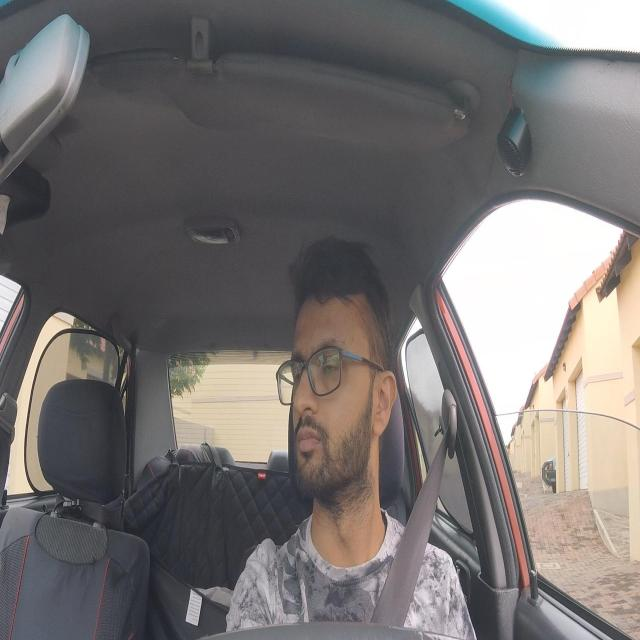close: (313, 337, 344, 394), (290, 345, 308, 391)
